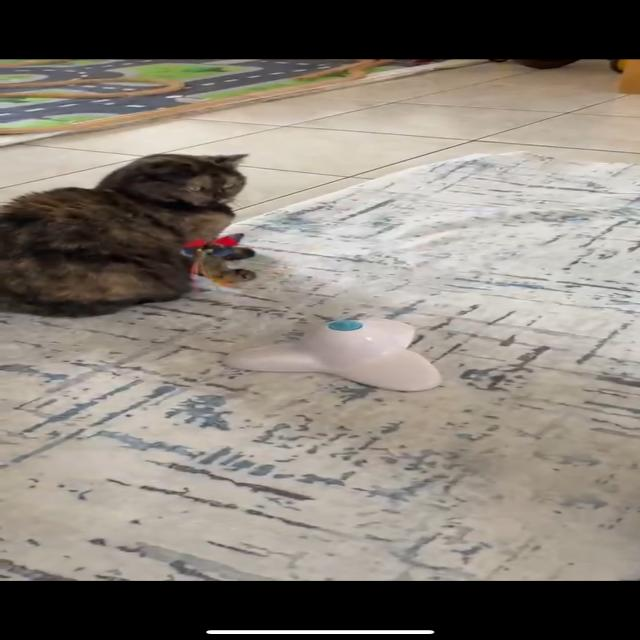authorized: (1, 152, 250, 318)
